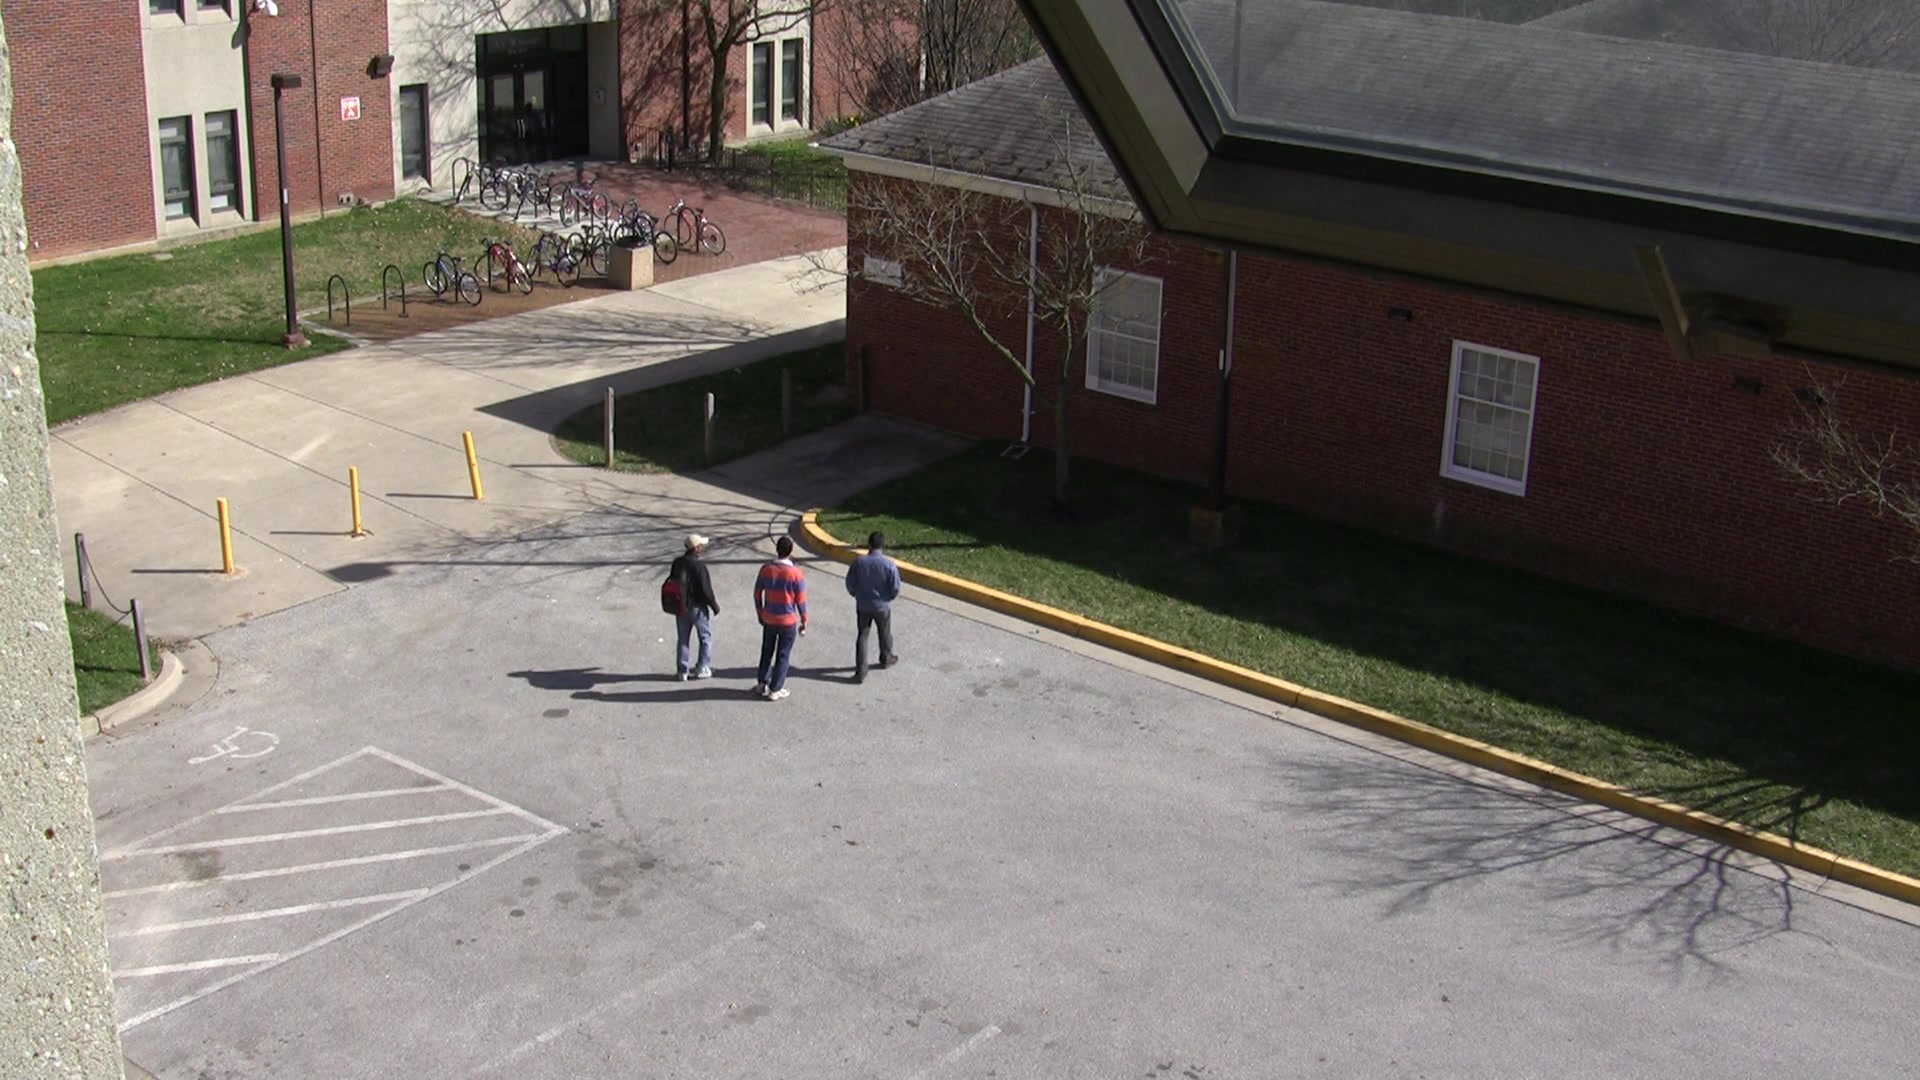person: (646, 516, 735, 690), (840, 522, 921, 695), (746, 532, 817, 716)
